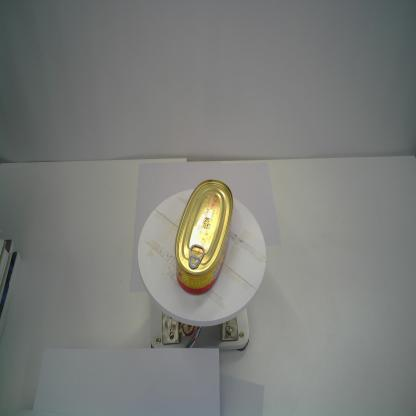Canned Food: (173, 178, 235, 297)
